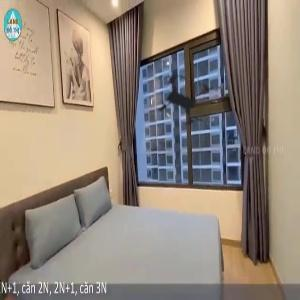drone: (121, 40, 249, 168)
